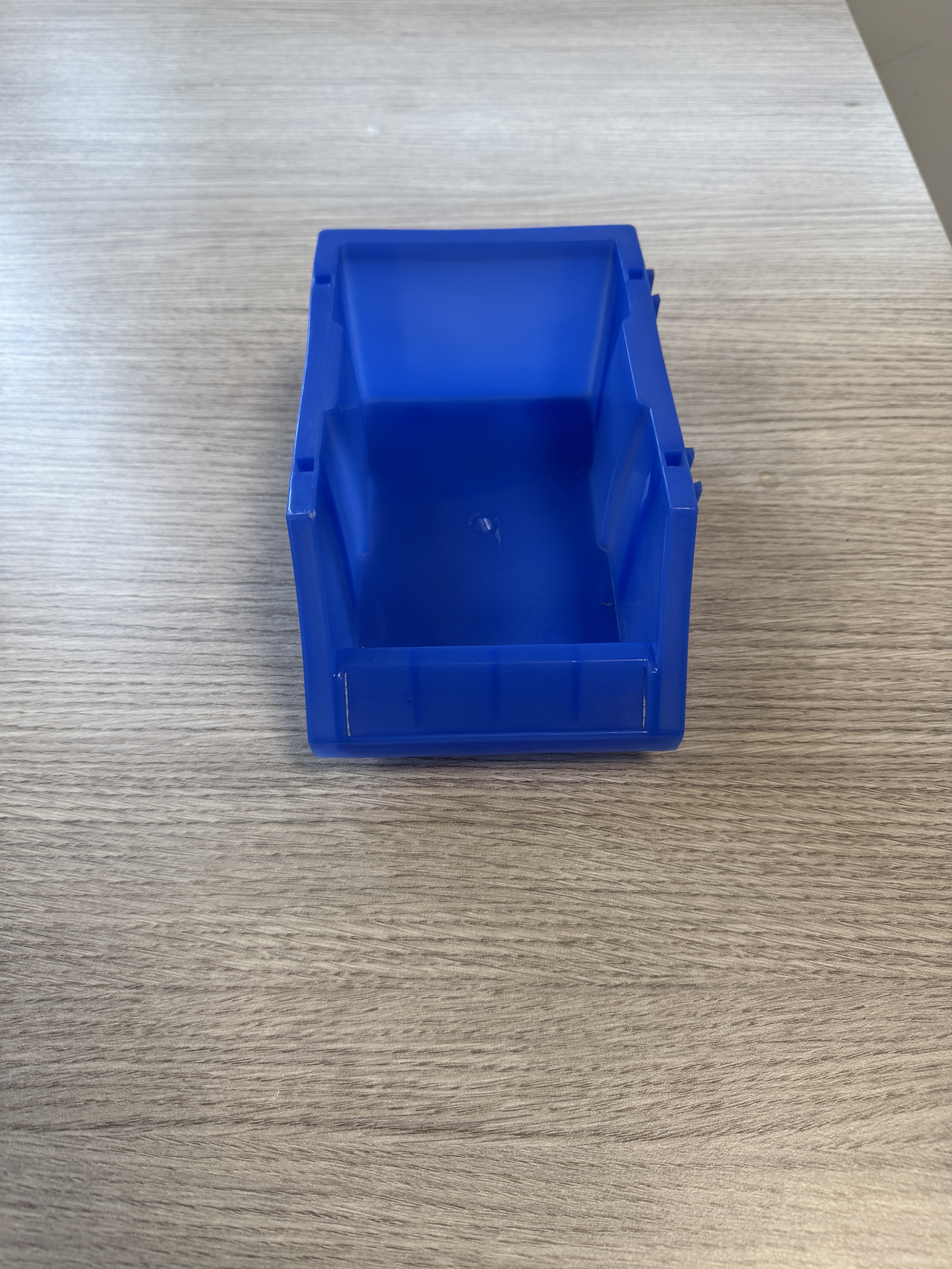Bin Boundary: (310, 244, 665, 645)
